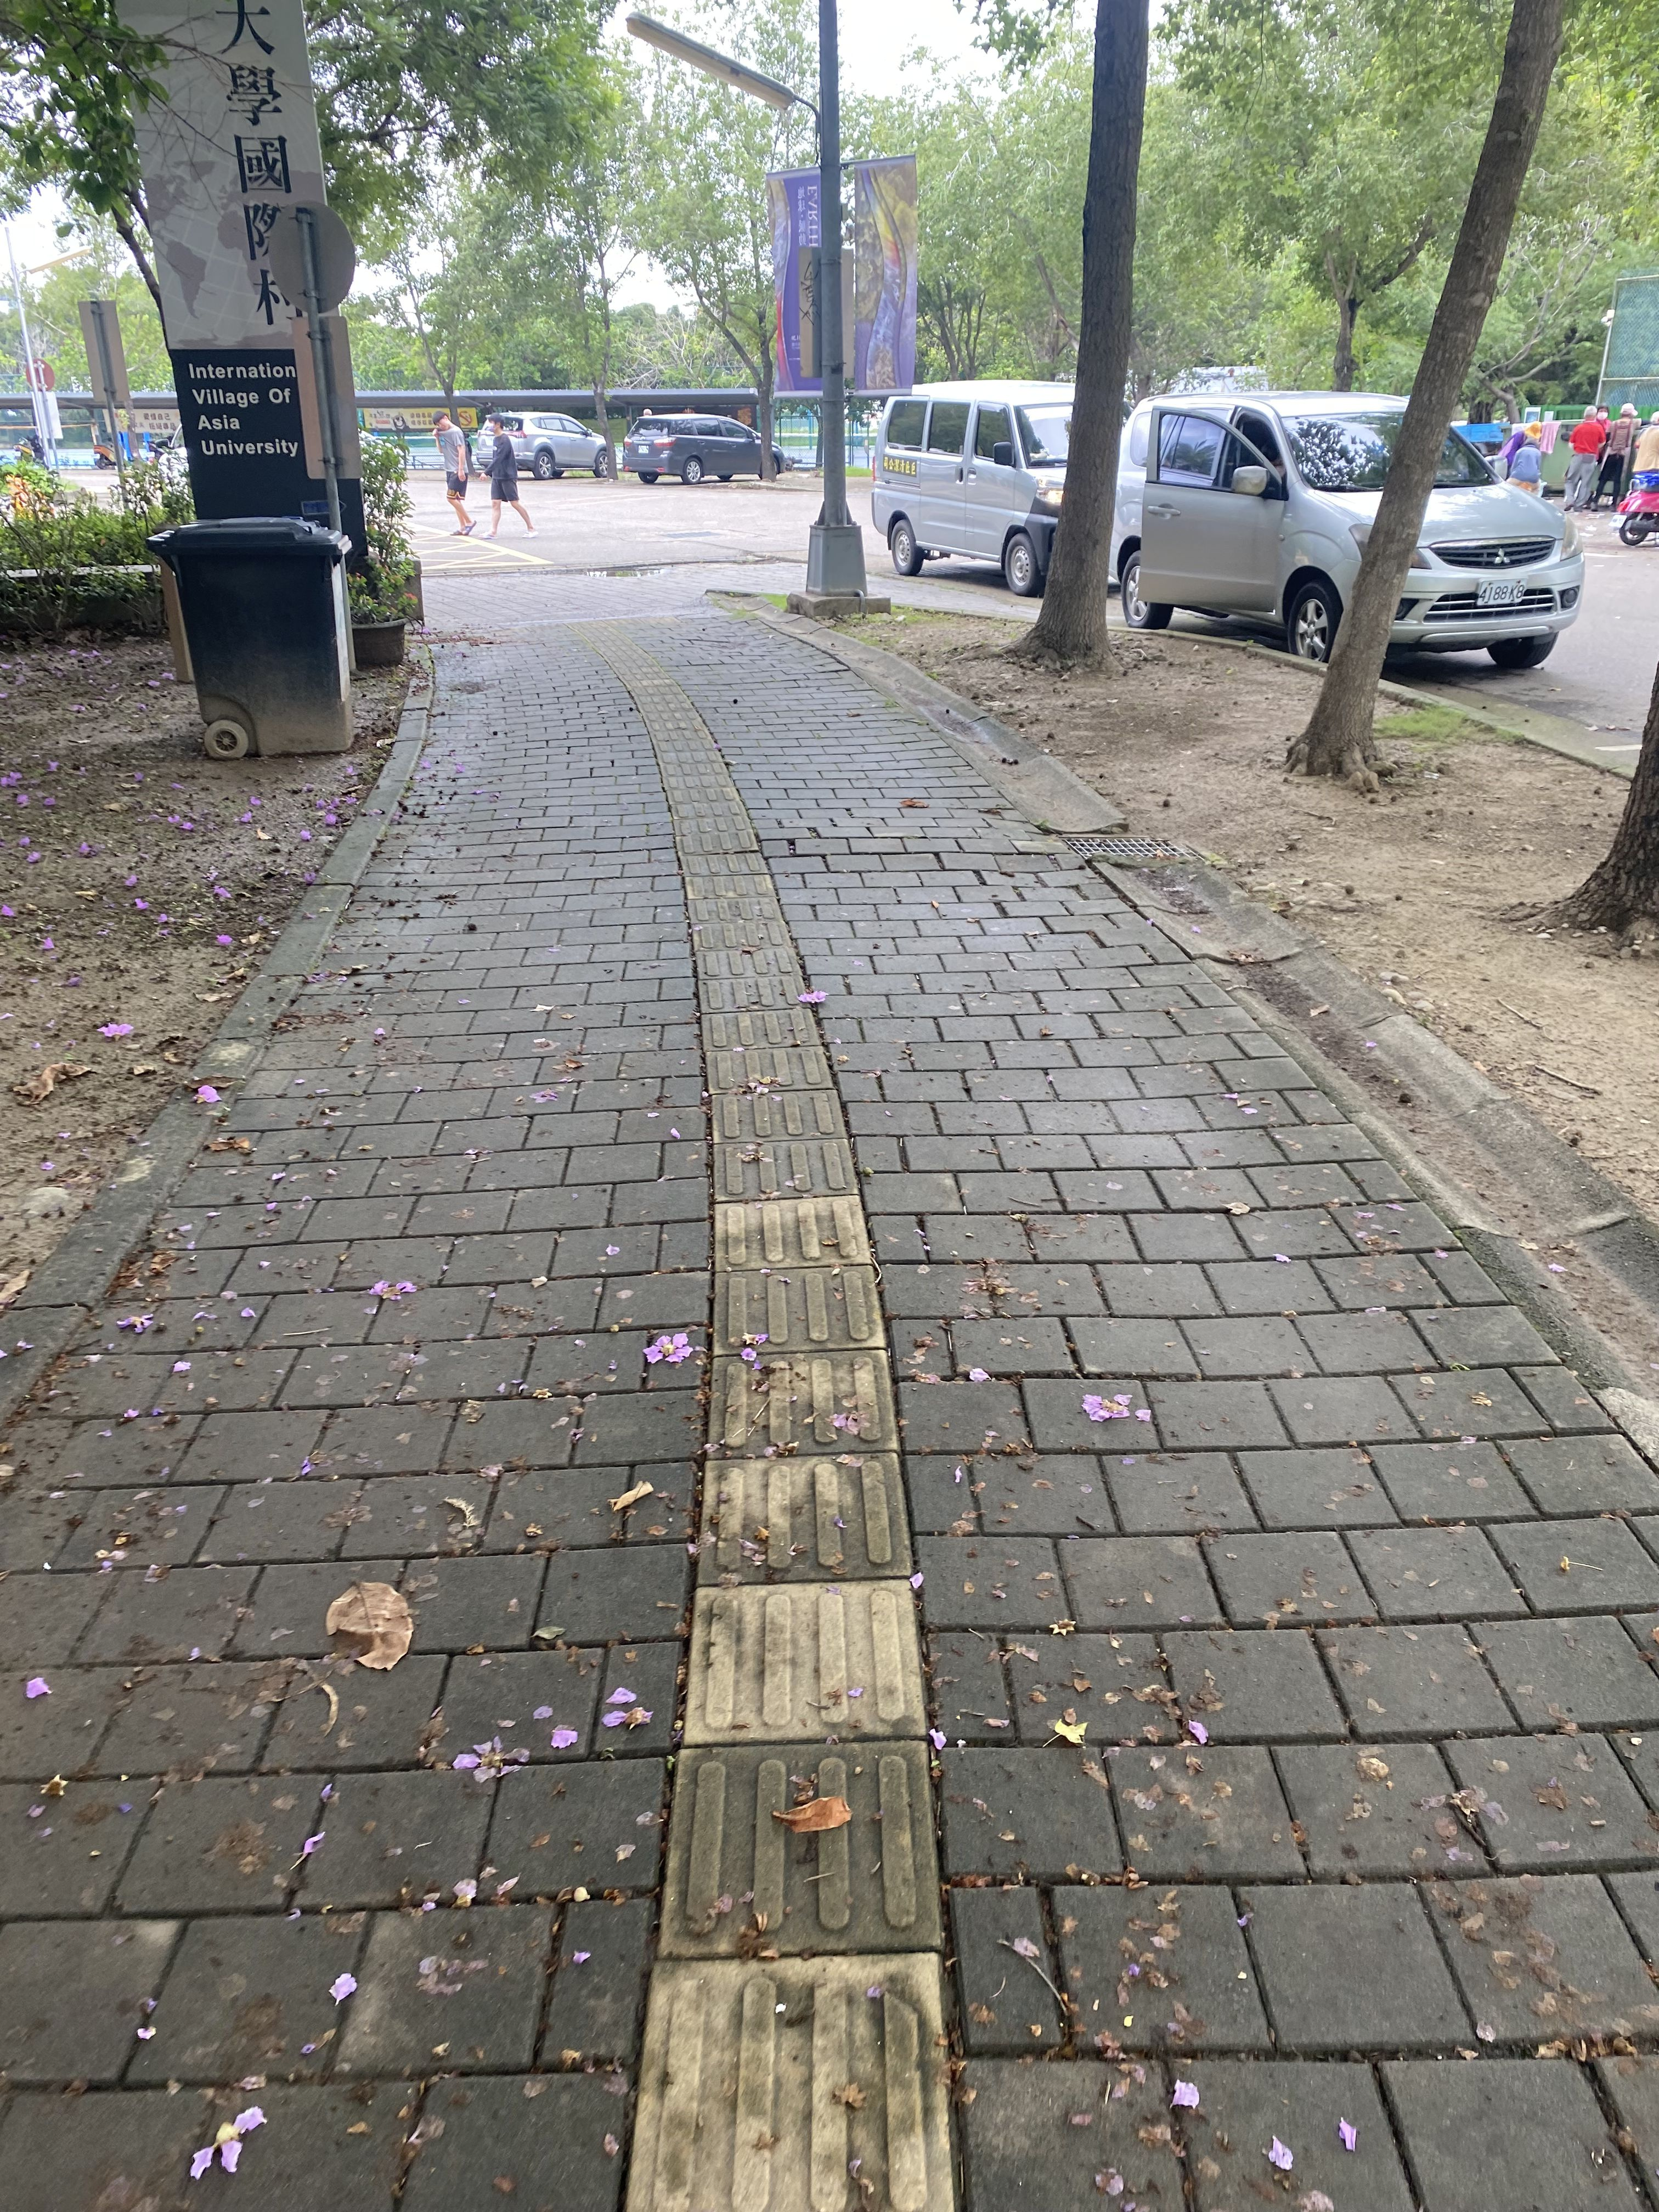sidewalk: (0, 571, 1659, 2212)
